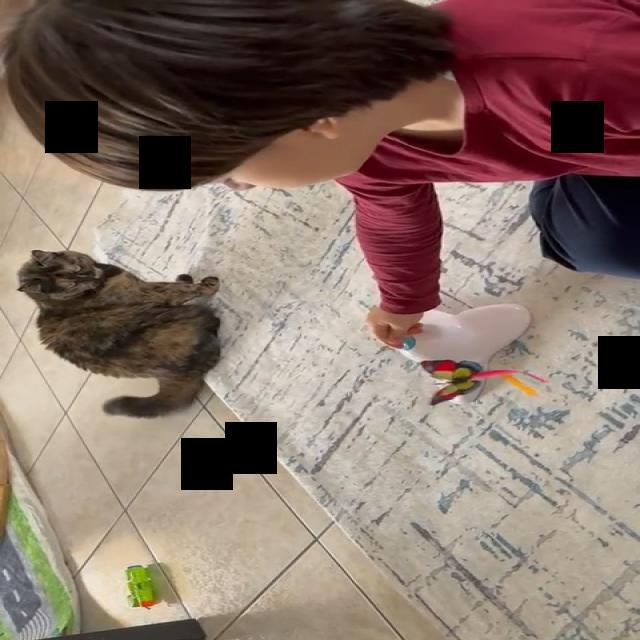authorized: (14, 248, 222, 419)
